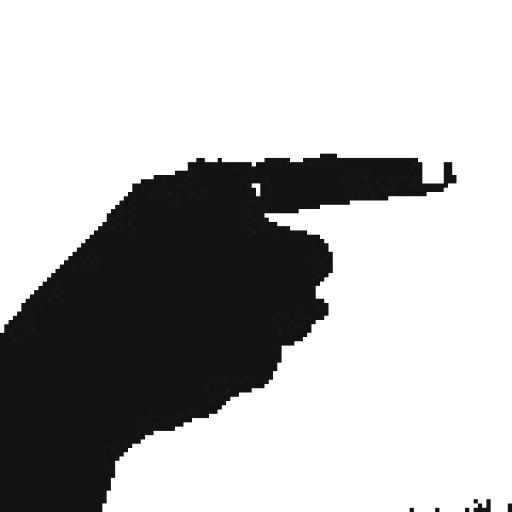index_left: (0, 151, 459, 512)
